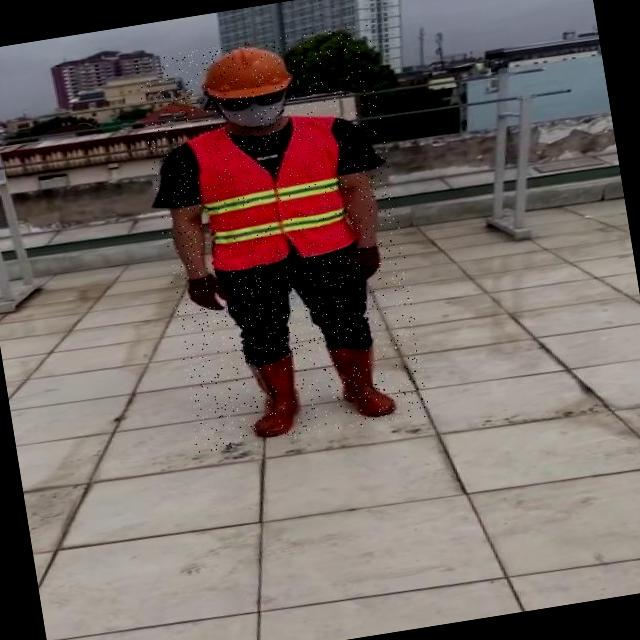boots: (238, 352, 308, 441), (326, 338, 398, 424)
gloves: (208, 11, 311, 143), (310, 232, 410, 300), (160, 254, 238, 326)
helmet: (193, 37, 298, 104)
vest: (189, 110, 360, 274)
